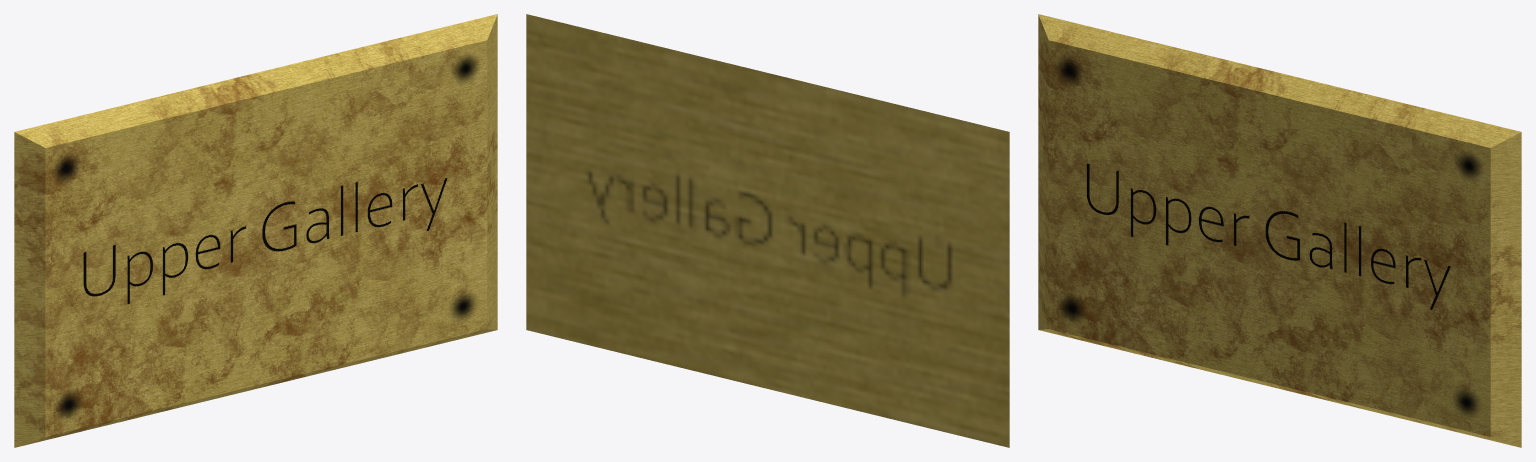
The model's file is Gallery_Upper.fbx.
3 renders of one model, left to right at view 1: azimuth 30°, elevation 25°; view 2: azimuth 150°, elevation 25°; view 3: azimuth 330°, elevation 25°, orthographic.
Parts seen in each view (by area): view 1: Gallery_Upper; view 2: Gallery_Upper; view 3: Gallery_Upper.
Boxes of the visible parts, x1,y1,x2,y2 form: Gallery_Upper: (14,14,497,447); Gallery_Upper: (526,14,1009,447); Gallery_Upper: (1038,14,1521,447).
Size of the model in its own units: 80 by 49.98 by 2.97.
1 material, 1 textured.
